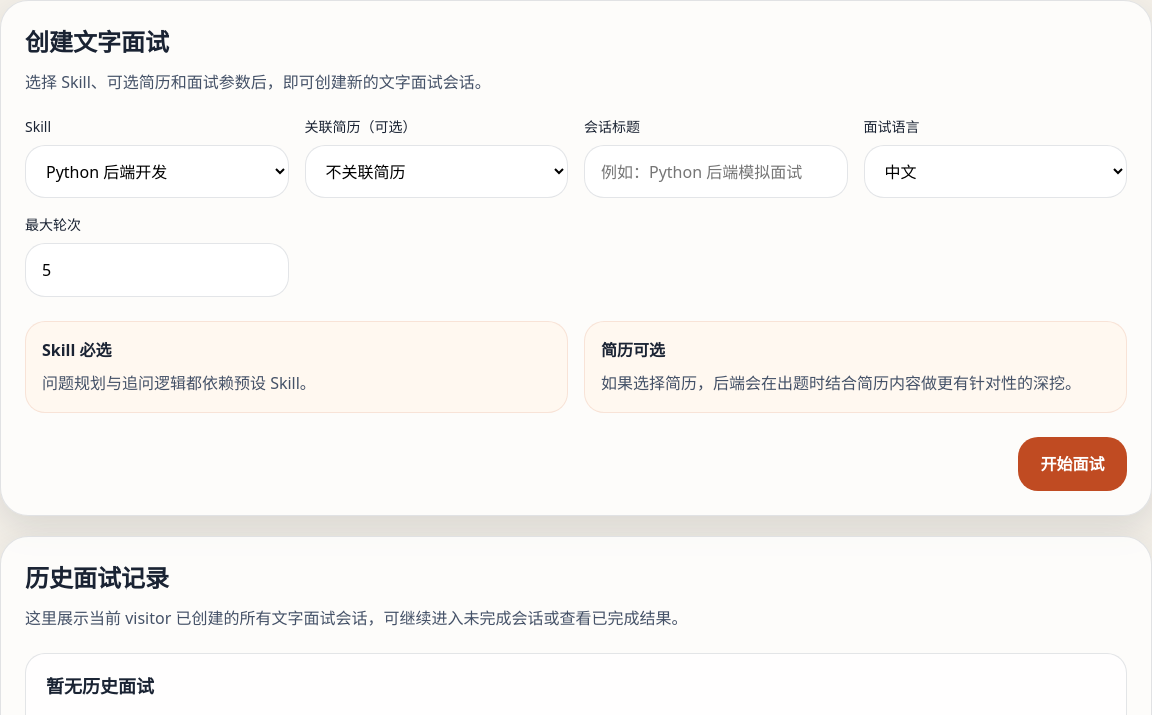
InterviewSetupWorkspace › creates session and waits for staged creation before navigating
Click the button "开始面试".
click(1073, 464)  # box [1018,437,1127,491]
Wait 3650 ms
(page scrolled)
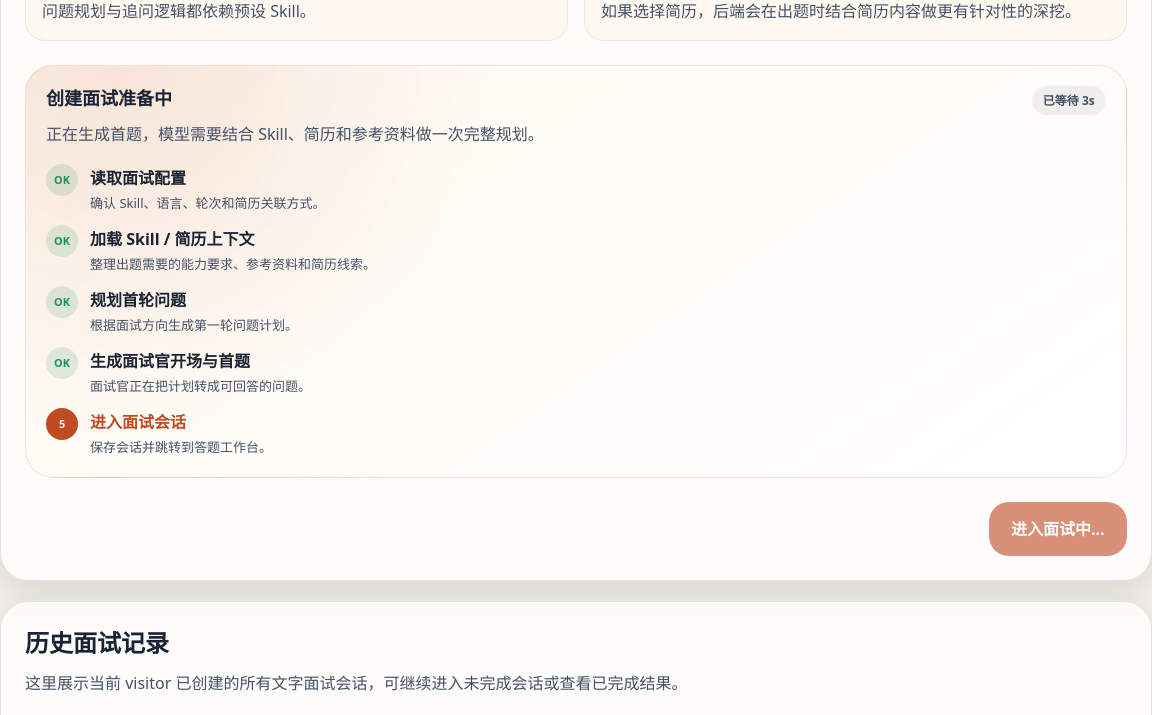
Result: the text "读取面试配置" is shown at [90,167,186,189]
Result: the text "加载 Skill / 简历上下文" is shown at [90,228,254,250]
Result: the text "生成面试官开场与首题" is shown at [90,350,250,372]
